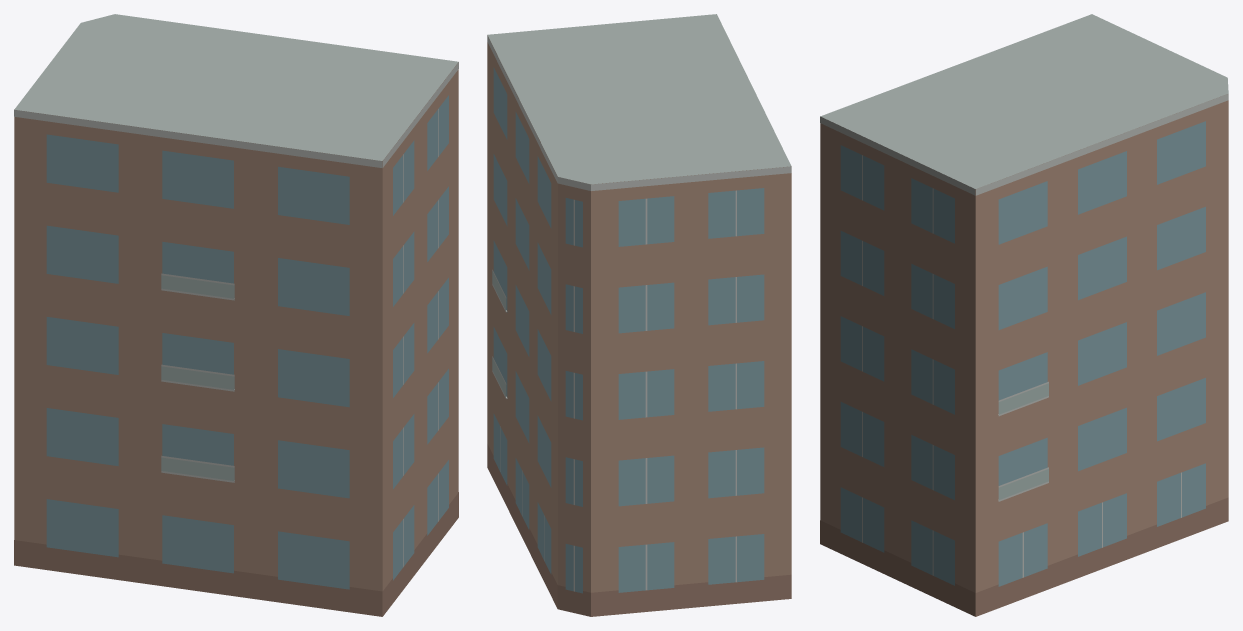
Rendered from survey-upis-33012995.glb.
3 renders of one model, left to right at view 1: azimuth 30°, elevation 25°; view 2: azimuth 150°, elevation 25°; view 3: azimuth 270°, elevation 25°, orthographic. The views are drawn at different scales.
Visible parts, largest first — view 1: survey-upis-33012995.tmp; view 2: survey-upis-33012995.tmp; view 3: survey-upis-33012995.tmp.
Part boxes in pixels (box(x1,y1,x2,y2)): survey-upis-33012995.tmp: box(14, 14, 458, 616); survey-upis-33012995.tmp: box(487, 14, 791, 616); survey-upis-33012995.tmp: box(820, 14, 1228, 616).
Bounding box in the file's own units: 13.76 × 15.65 × 13.55.
